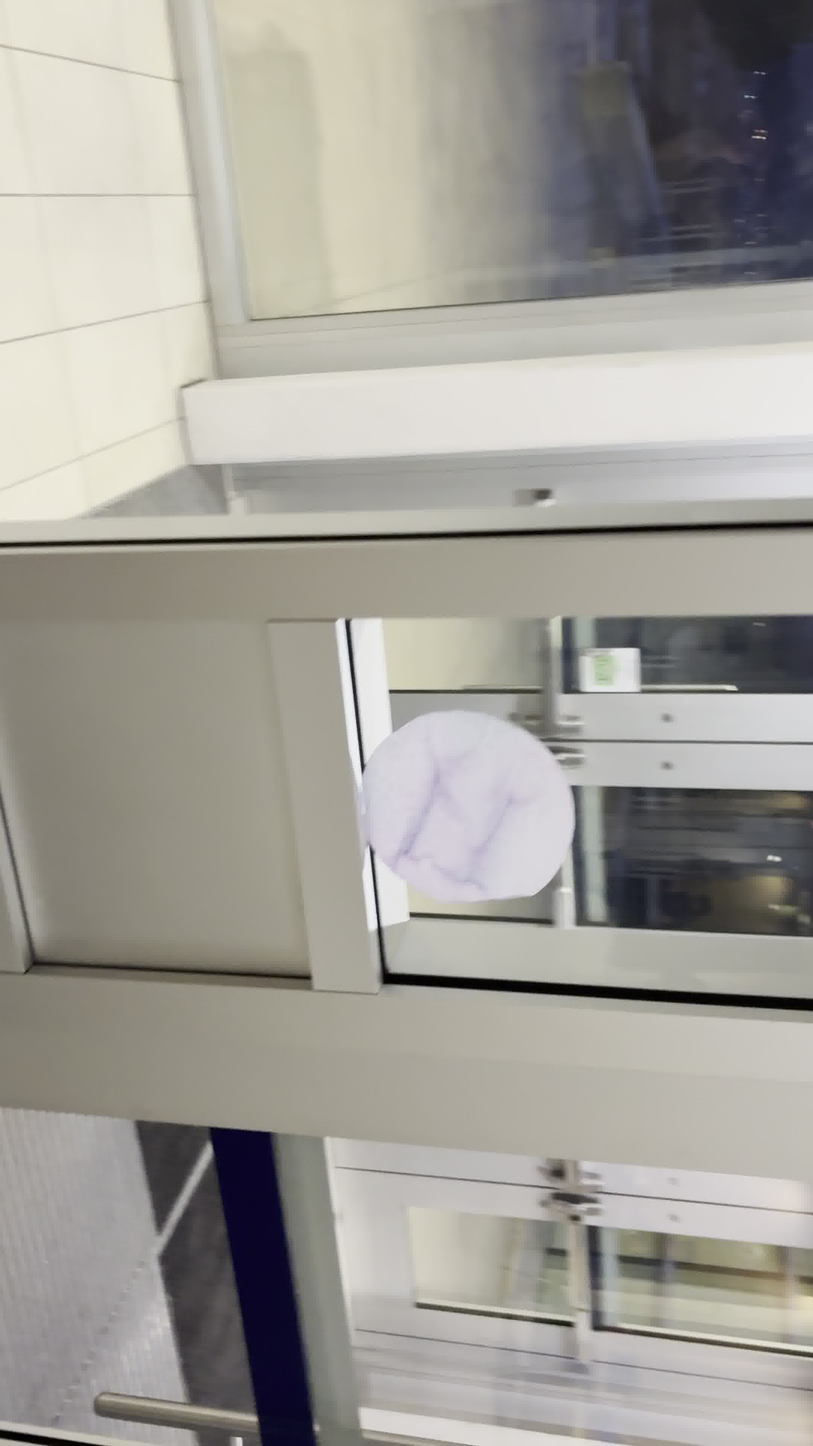Target: (357, 717, 575, 911)
